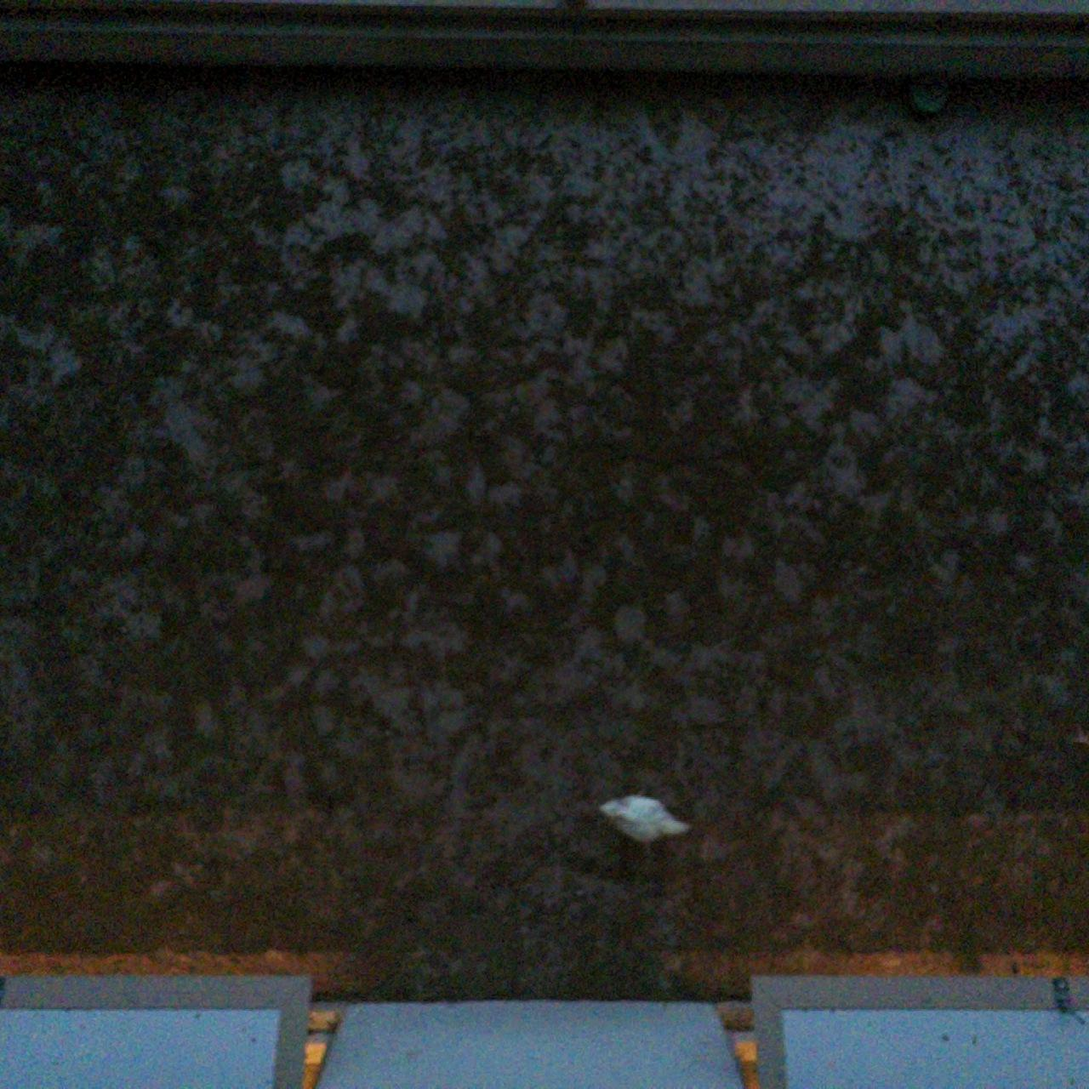chicken: (596, 780, 698, 860)
